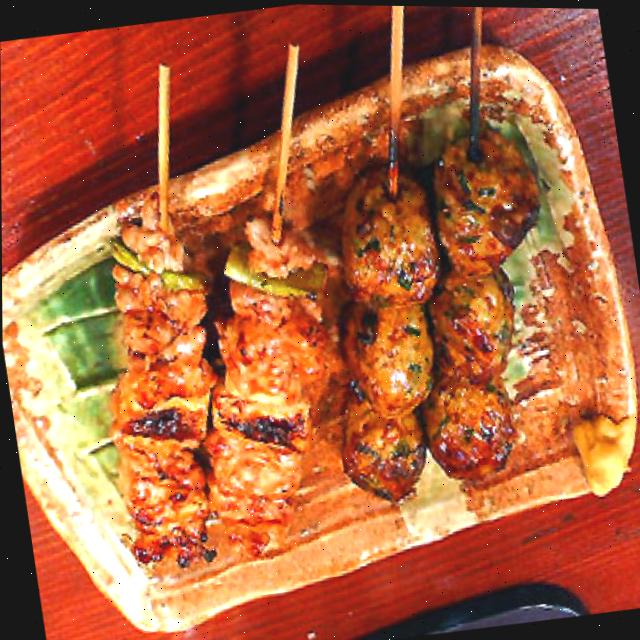烧串烤肉: (44, 1, 590, 594)
